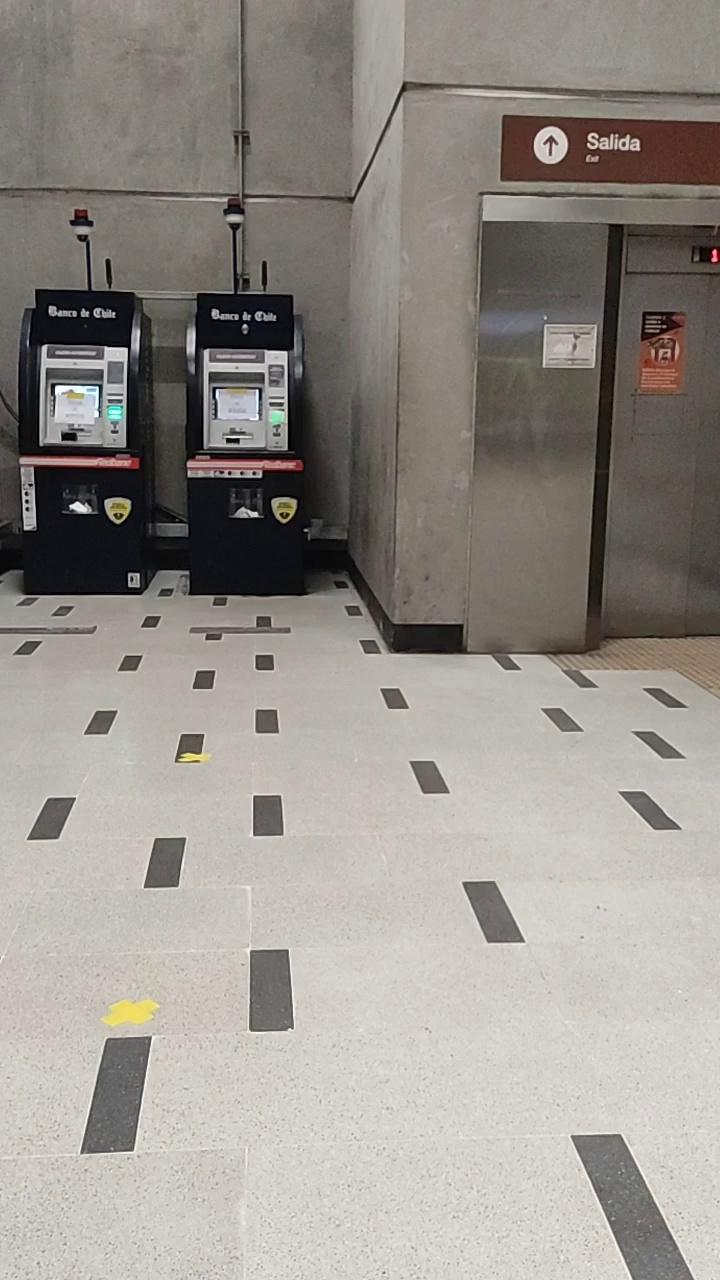up arrow: (532, 130, 564, 167)
